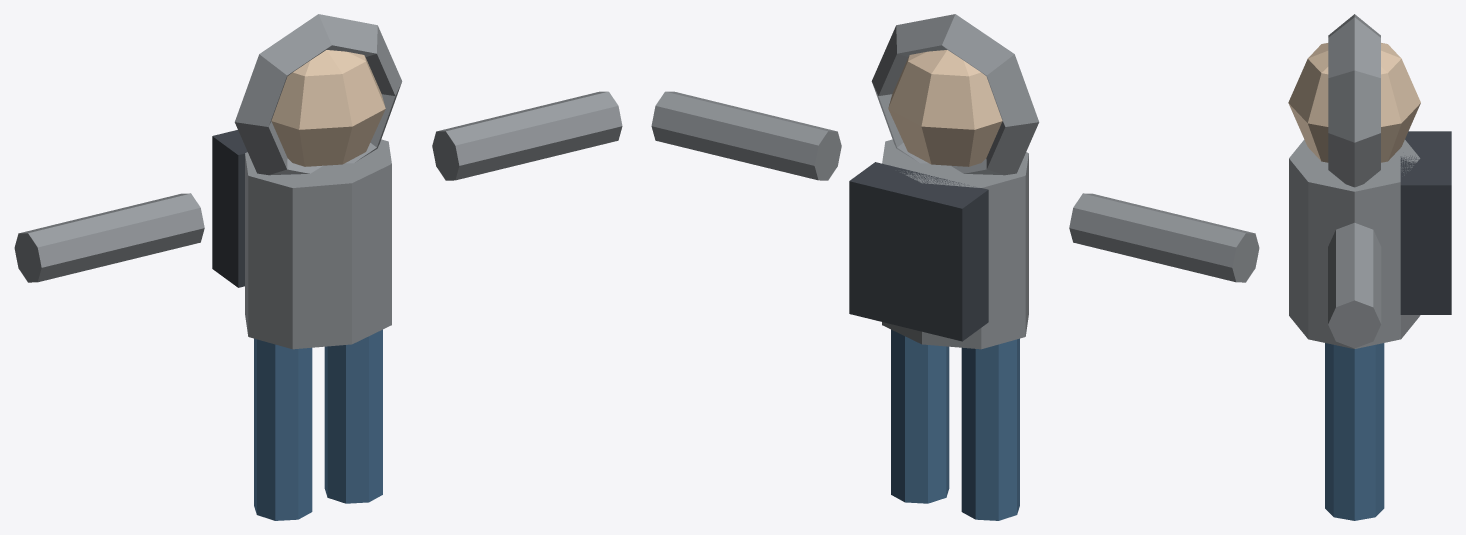
The model's file is player.glb.
3 views of the same model, side by side, from view 1: azimuth 30°, elevation 25°; view 2: azimuth 150°, elevation 25°; view 3: azimuth 270°, elevation 25° (orthographic). The views are drawn at different scales.
Parts seen in each view (by area): view 1: player; view 2: player; view 3: player.
Boxes of the visible parts, x1=… form: player: x1=14, y1=14, x2=622, y2=520; player: x1=651, y1=14, x2=1259, y2=520; player: x1=1288, y1=14, x2=1451, y2=520.
Size of the model in its own units: 2.13 by 1.7 by 0.5307.
